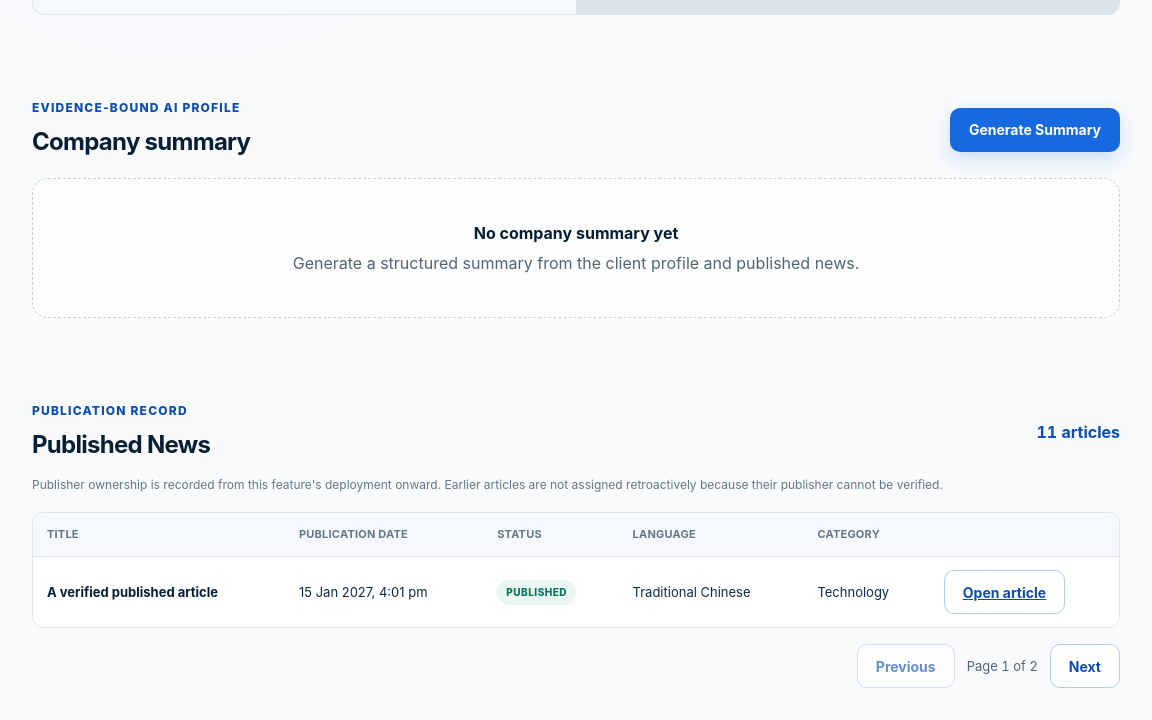
employee client detail › loads the next server-paginated published-news page
(page scrolled)
Expected: the text "A verified published article" is shown, [33, 557, 285, 627]
Click the button "Next". click: (1085, 666)
box: [1050, 644, 1120, 688]
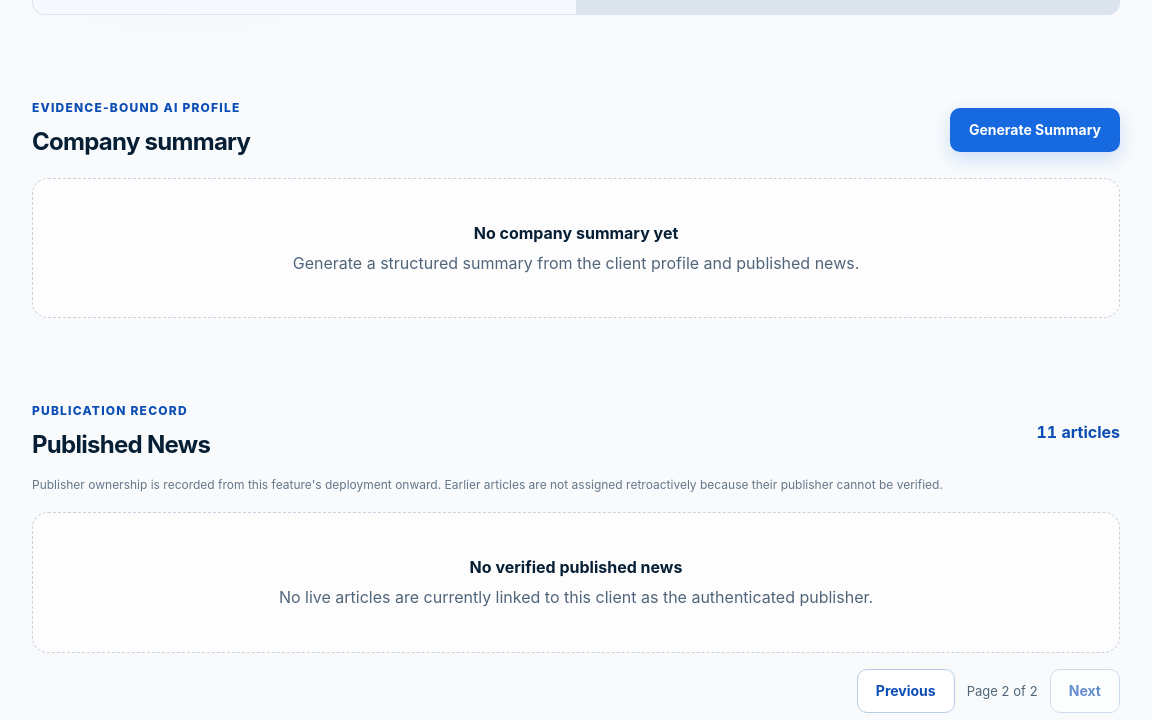
Now the text "Page 2 of 2" is shown, box [967, 681, 1038, 701]
